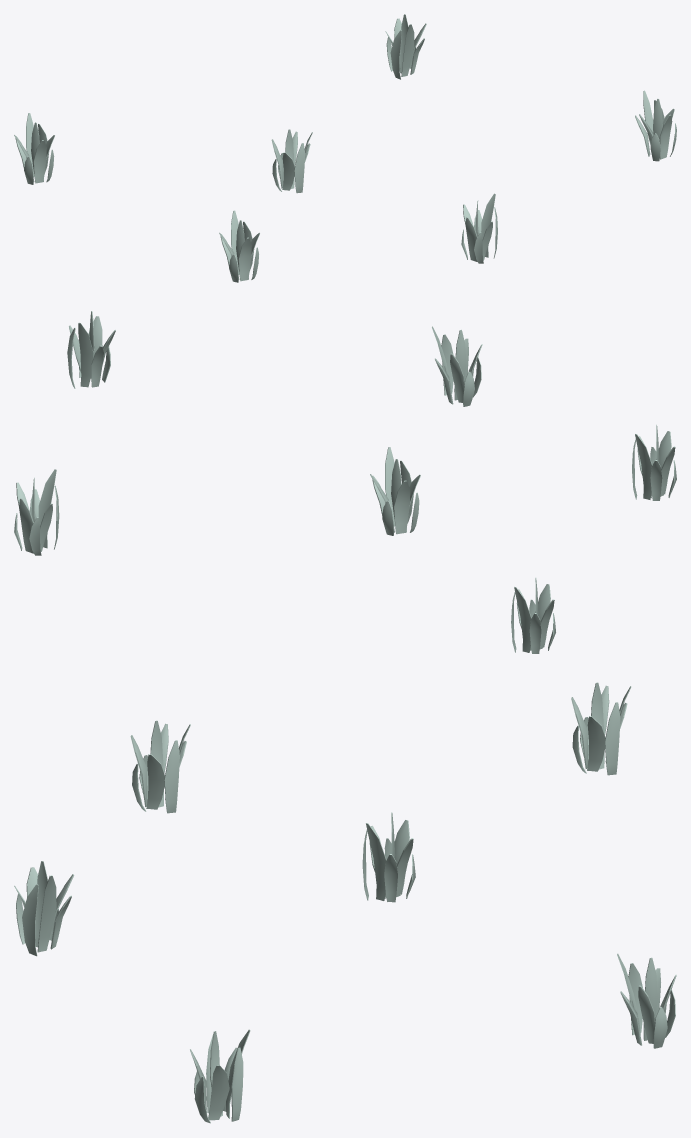
Rendered from a_z1_grass_l_many.fbx.
The picture shows the model from 3 angles, top to bottom: view 1: azimuth 30°, elevation 25°; view 2: azimuth 150°, elevation 25°; view 3: azimuth 270°, elevation 25°; orthographic projection. The views are drawn at different scales.
Visible parts, largest first — view 1: a_z1_grass_l_many; view 2: a_z1_grass_l_many; view 3: a_z1_grass_l_many.
Boxes of the visible parts, left/top/right/bottom form: a_z1_grass_l_many: left=14, top=14, right=676, bottom=282; a_z1_grass_l_many: left=14, top=311, right=676, bottom=653; a_z1_grass_l_many: left=14, top=682, right=676, bottom=1123.
Size of the model in its own units: 969 by 102 by 726.
